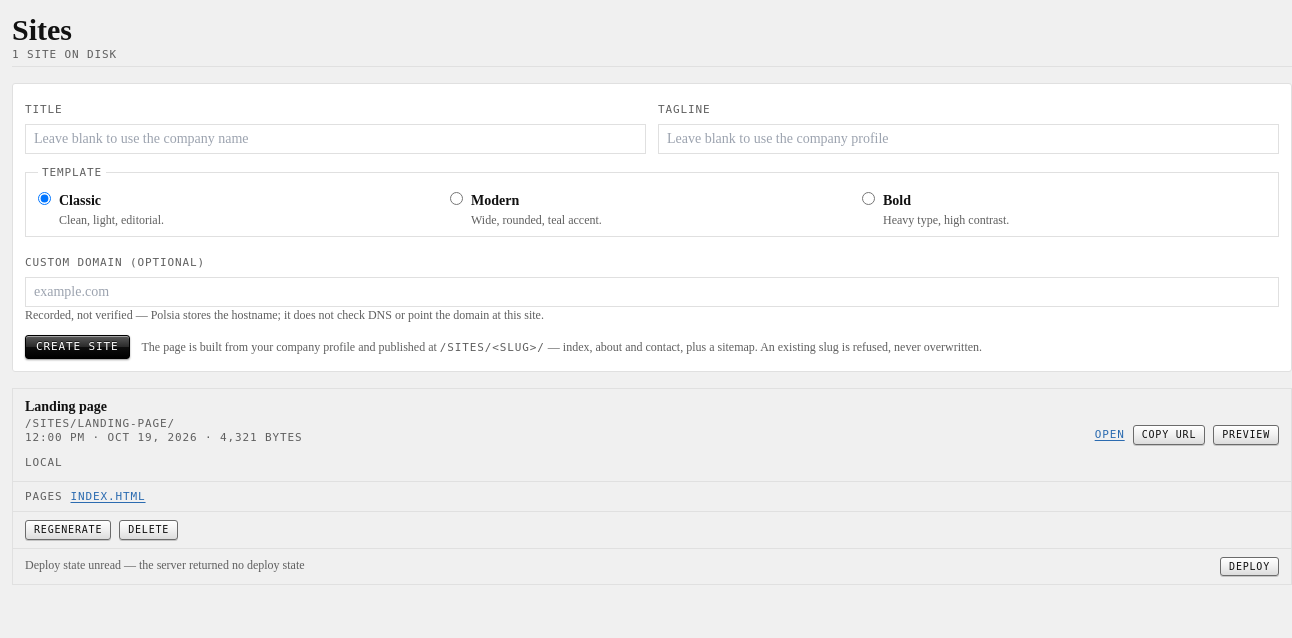
it: /sites — preview and copy › copies the ABSOLUTE url and says so only after the write resolved
What coordinates should you click on to do the following:
click the button with aria-label "copy url for landing page"
I would click on:
 (1169, 435)
Its box is [1133,425,1205,445].
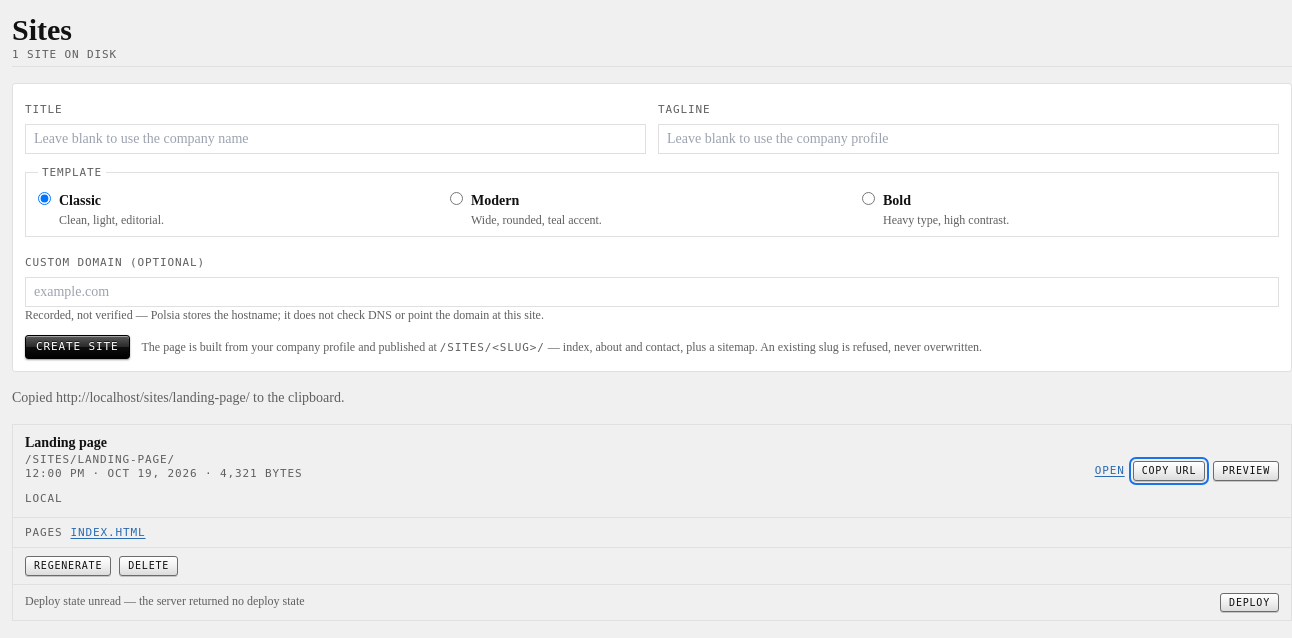
Expected: the text with test id "sites-copied" shows "Copied", [12,390,56,405]
